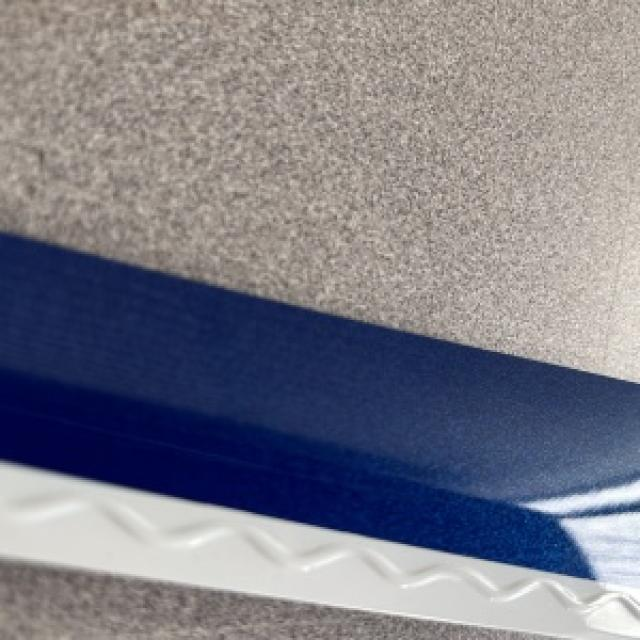healthy: (0, 0, 638, 378), (0, 561, 525, 638)
